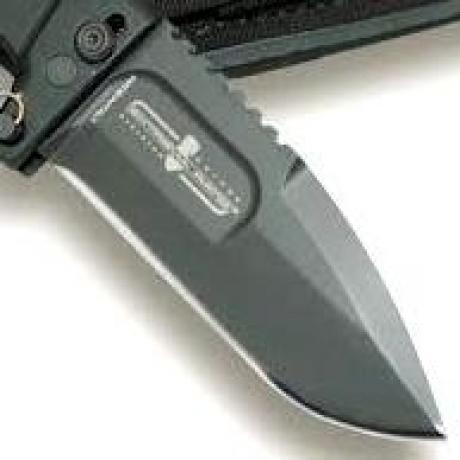weapon: (2, 3, 450, 440)
